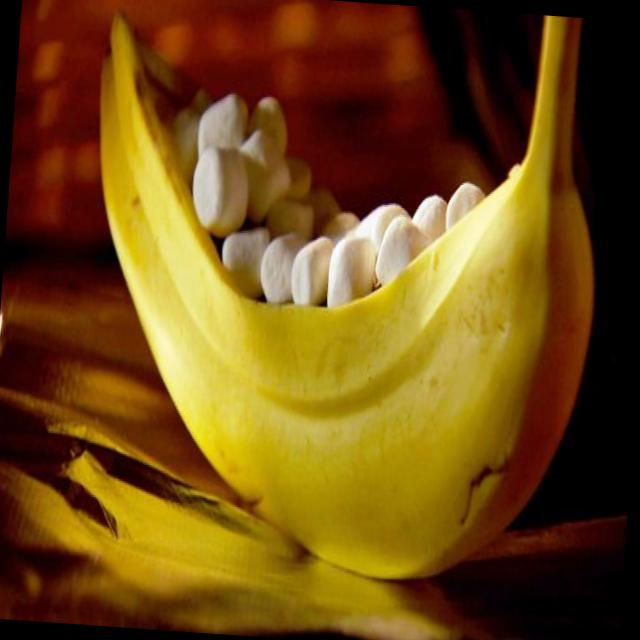banana: (45, 11, 588, 596)
